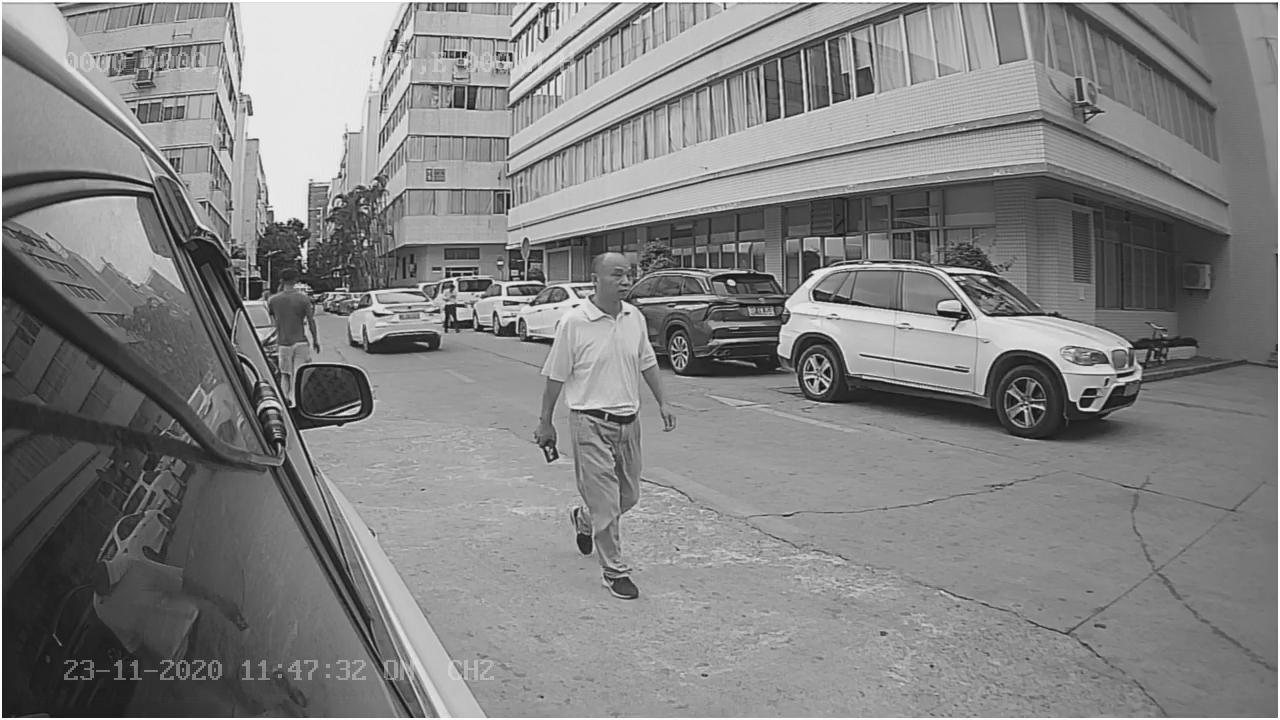person: (529, 237, 680, 597)
